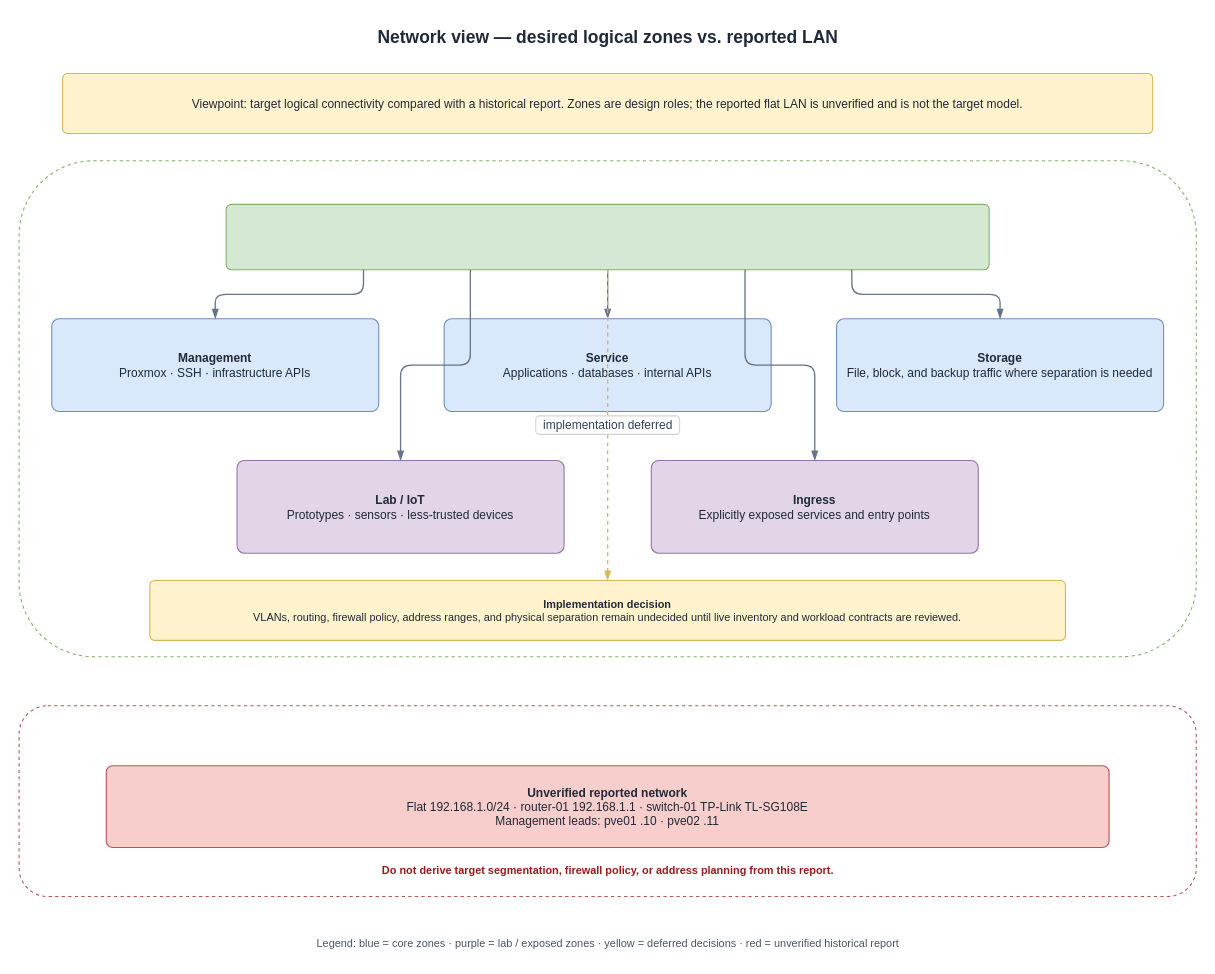
The diagram is 1215 pixels wide and 974 high, and some of its shapes have lost their labels. The box of each missing label's shape, as (x1, y1, x2, y2) in pixels:
Desired logical network model: (18, 160, 1196, 657)
Reported flat LAN — historical reference only: (18, 705, 1196, 897)
Target zone model Logical roles, not a claim about physical implementation: (225, 203, 989, 270)
